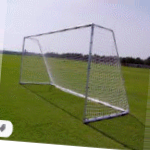goals: (18, 21, 131, 125)
